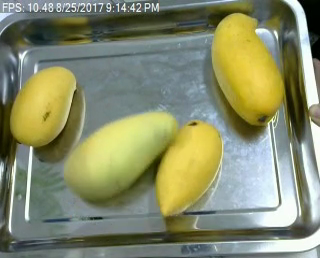Mango: (57, 109, 180, 200), (209, 12, 287, 126), (152, 116, 225, 216), (10, 62, 81, 150)
